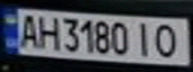0: (109, 19, 133, 56)
1: (78, 17, 93, 54)
3: (60, 16, 81, 53)
8: (93, 18, 112, 55)
A: (15, 11, 42, 48)
H: (33, 12, 60, 51)
I: (130, 19, 157, 57)
O: (151, 20, 187, 60)
